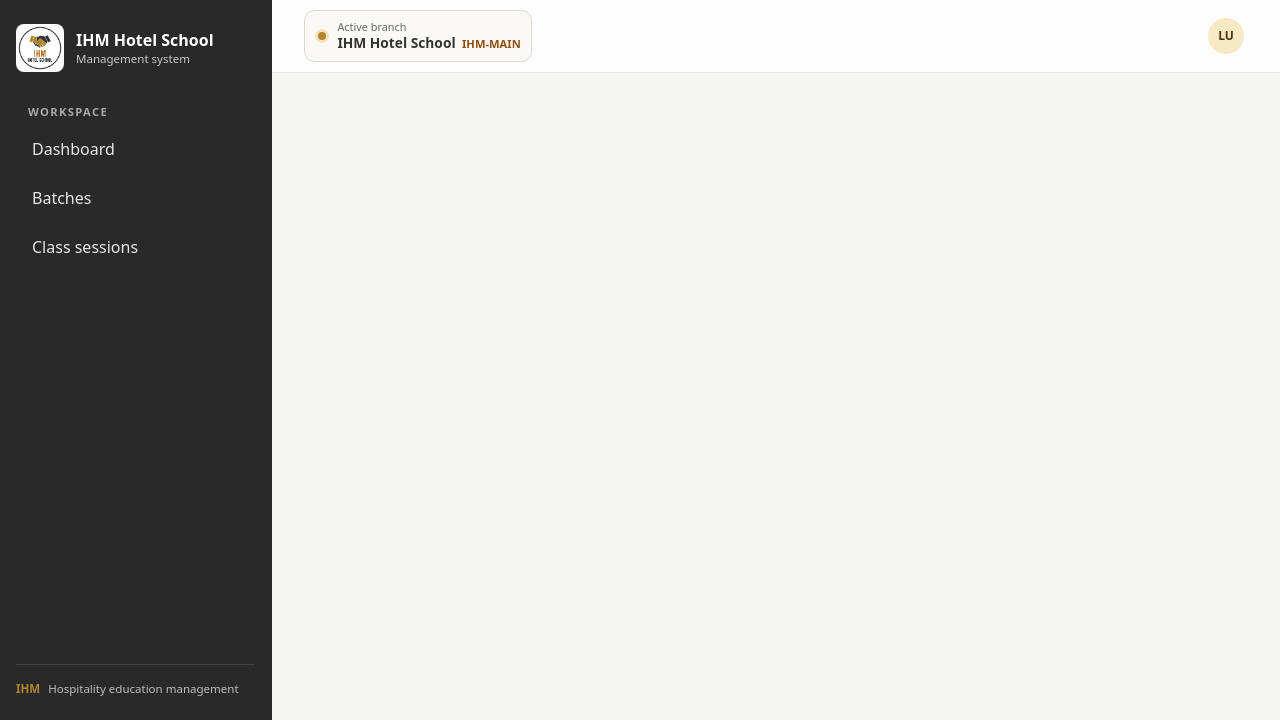
it: ShellComponent › shows only implemented lecturer navigation without administrator controls
The image size is (1280, 720).
What coordinates should you click on to do the following:
click the button with aria-label "Open account menu for Lecturer User"
I would click on:
 (1226, 36)
Its box is [1204,14,1248,58].
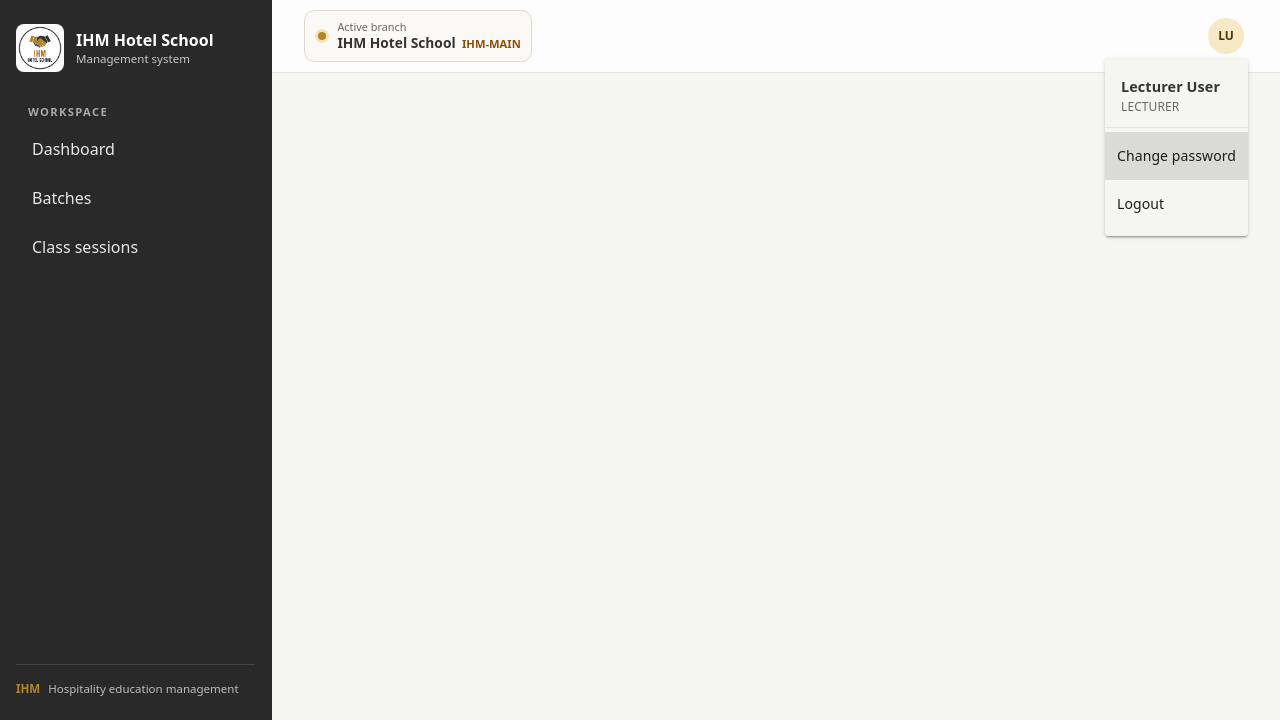
Now the text "Lecturer User" is shown, box [1121,78,1232,97]
Now the text "Lecturer" is shown, box [1121,77,1220,96]
Now the text "Change password" is shown, box [1117,146,1236,166]
